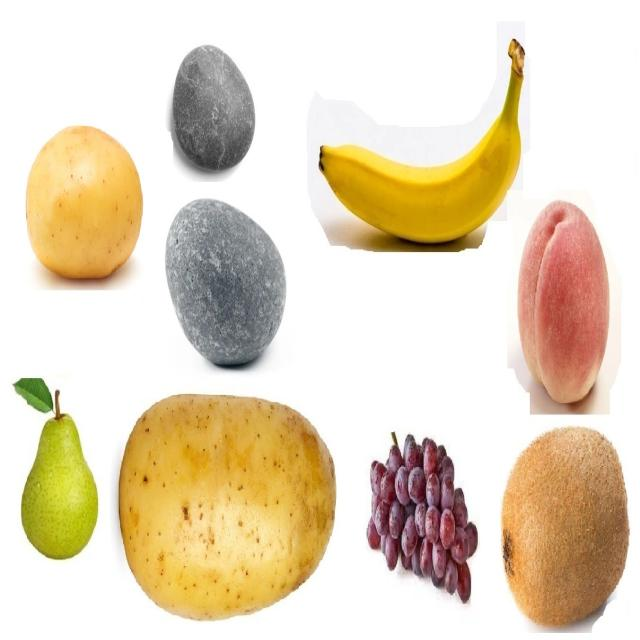potato: (118, 393, 338, 618), (24, 125, 144, 279)
